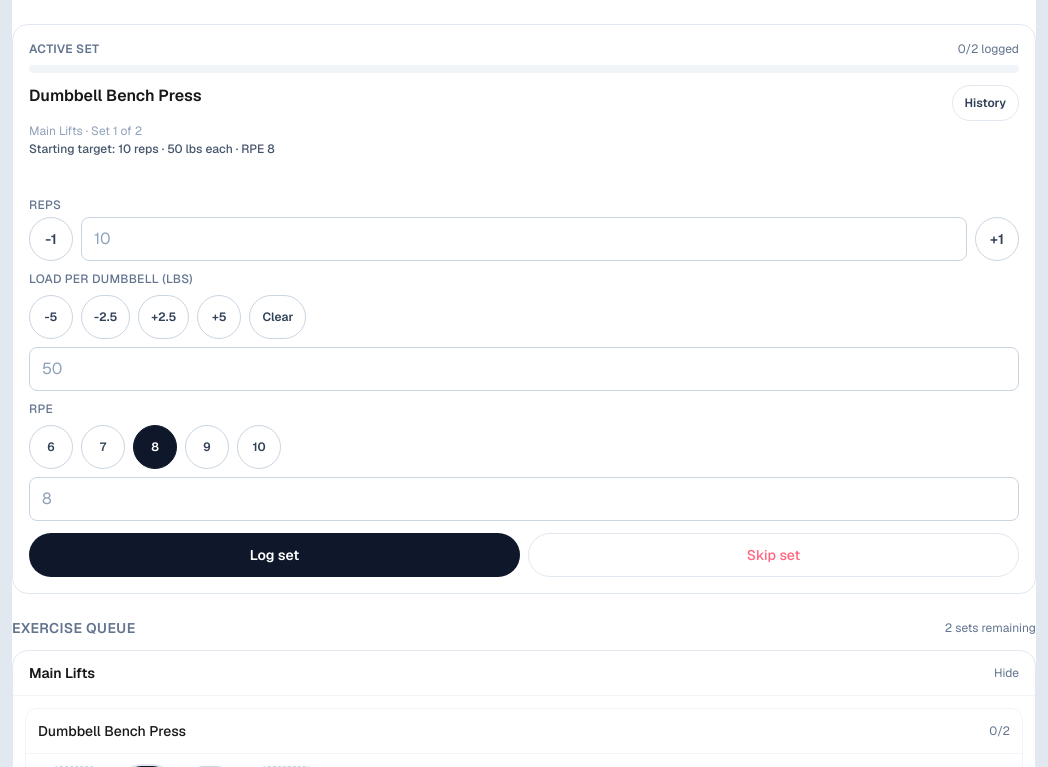
Scenario: LogWorkoutClient UX behavior › normalizes load on blur
The width and height of the screenshot is (1048, 767).
Replace the text in the number field named "Load" with "41": x=524, y=369 [29,347,1019,391]
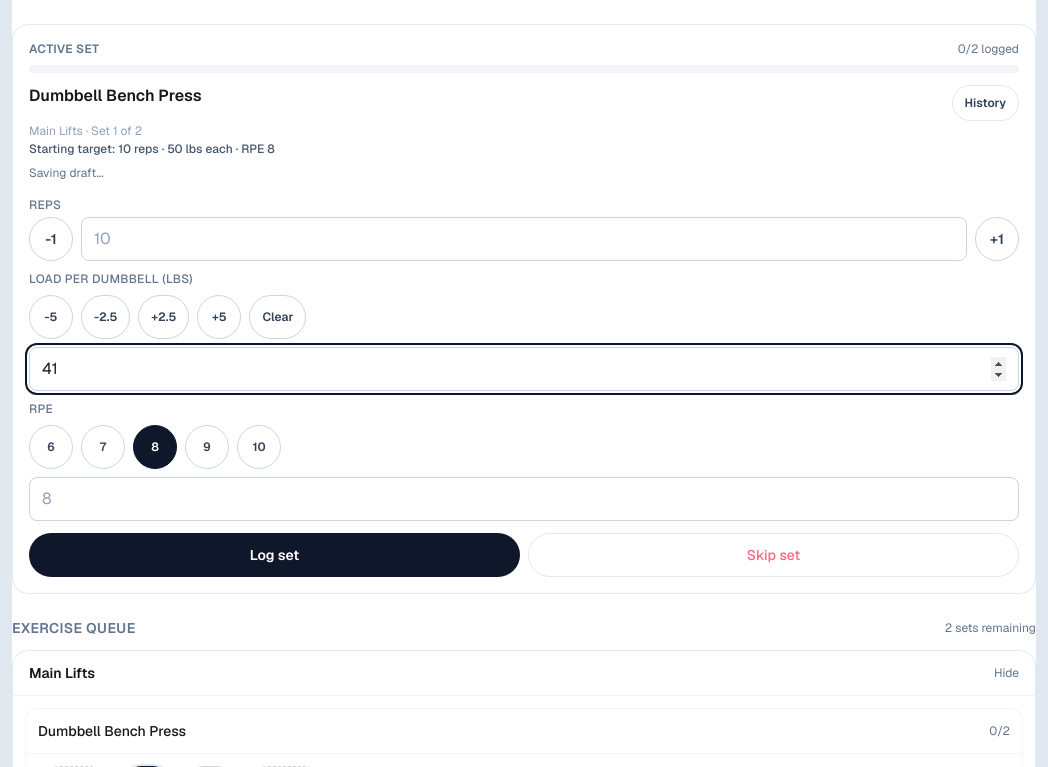
Leave the number field named "Load", box [29,347,1019,391]
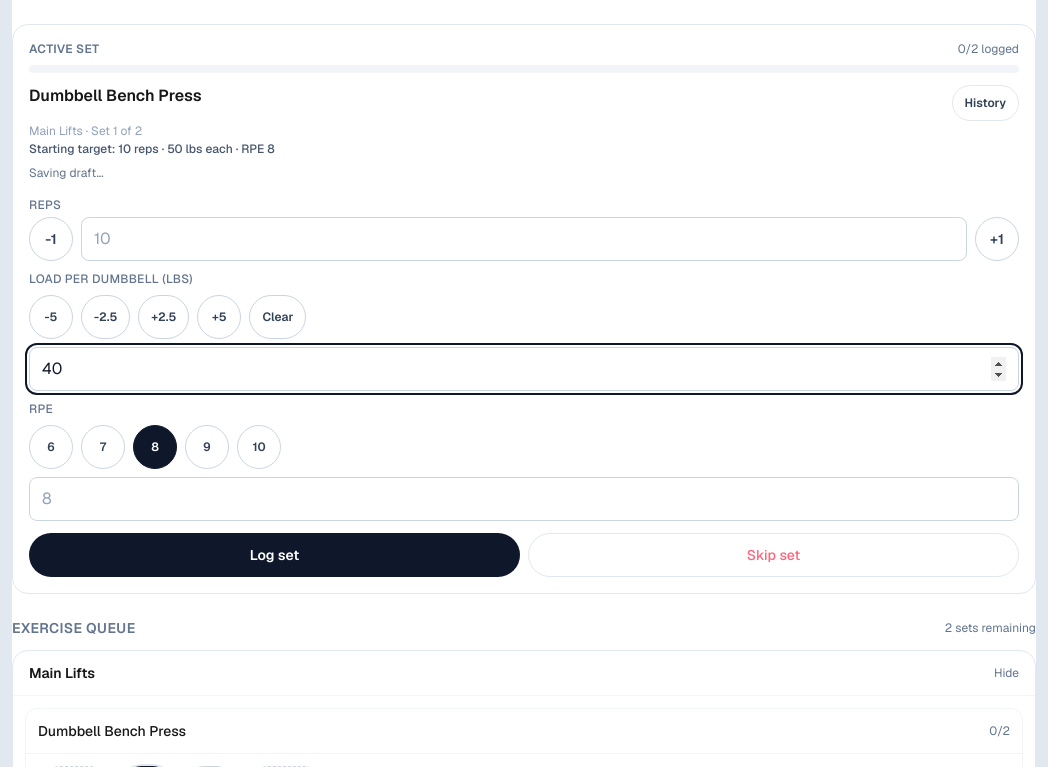
Expected: the number field named "Load" holds "40", [29,347,1019,391]
